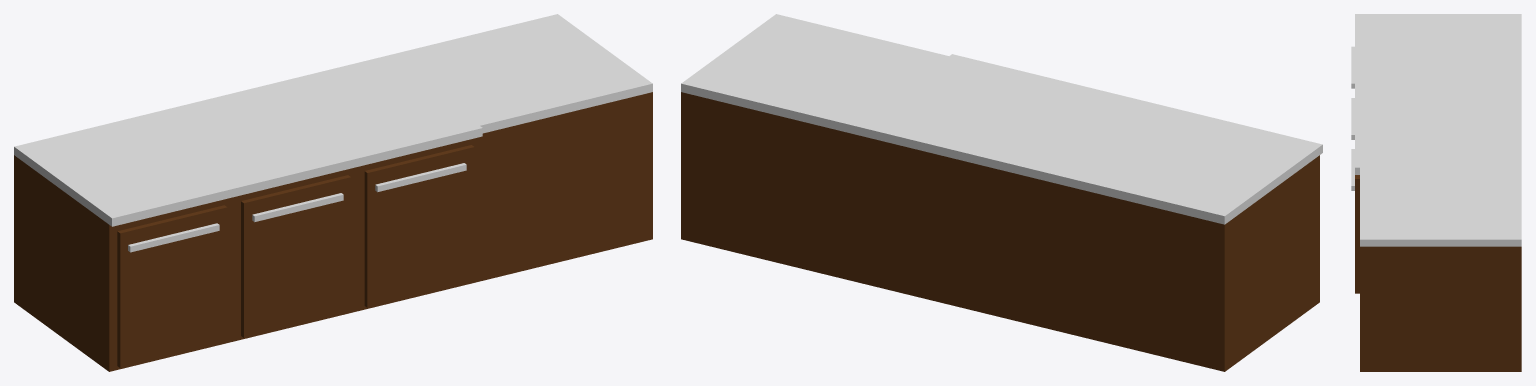
File: Kitchen table 3.fbx
3 views of the same model, side by side, from view 1: azimuth 30°, elevation 25°; view 2: azimuth 150°, elevation 25°; view 3: azimuth 270°, elevation 25° (orthographic). The views are drawn at different scales.
Parts seen in each view (by area): view 1: Kitchen table 3; view 2: Kitchen table 3; view 3: Kitchen table 3.
Part boxes in pixels (x1,y1,x2,y2): Kitchen table 3: [14, 14, 652, 371]; Kitchen table 3: [681, 14, 1322, 371]; Kitchen table 3: [1351, 14, 1521, 371].
Bounding box in the file's own units: 587 × 161 × 188.
